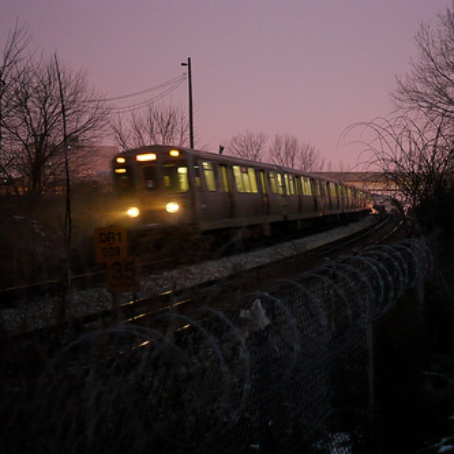barbed wire: (1, 247, 418, 454)
sky: (82, 1, 418, 145)
train: (120, 142, 360, 254)
tree: (1, 29, 117, 261), (370, 1, 454, 252)
